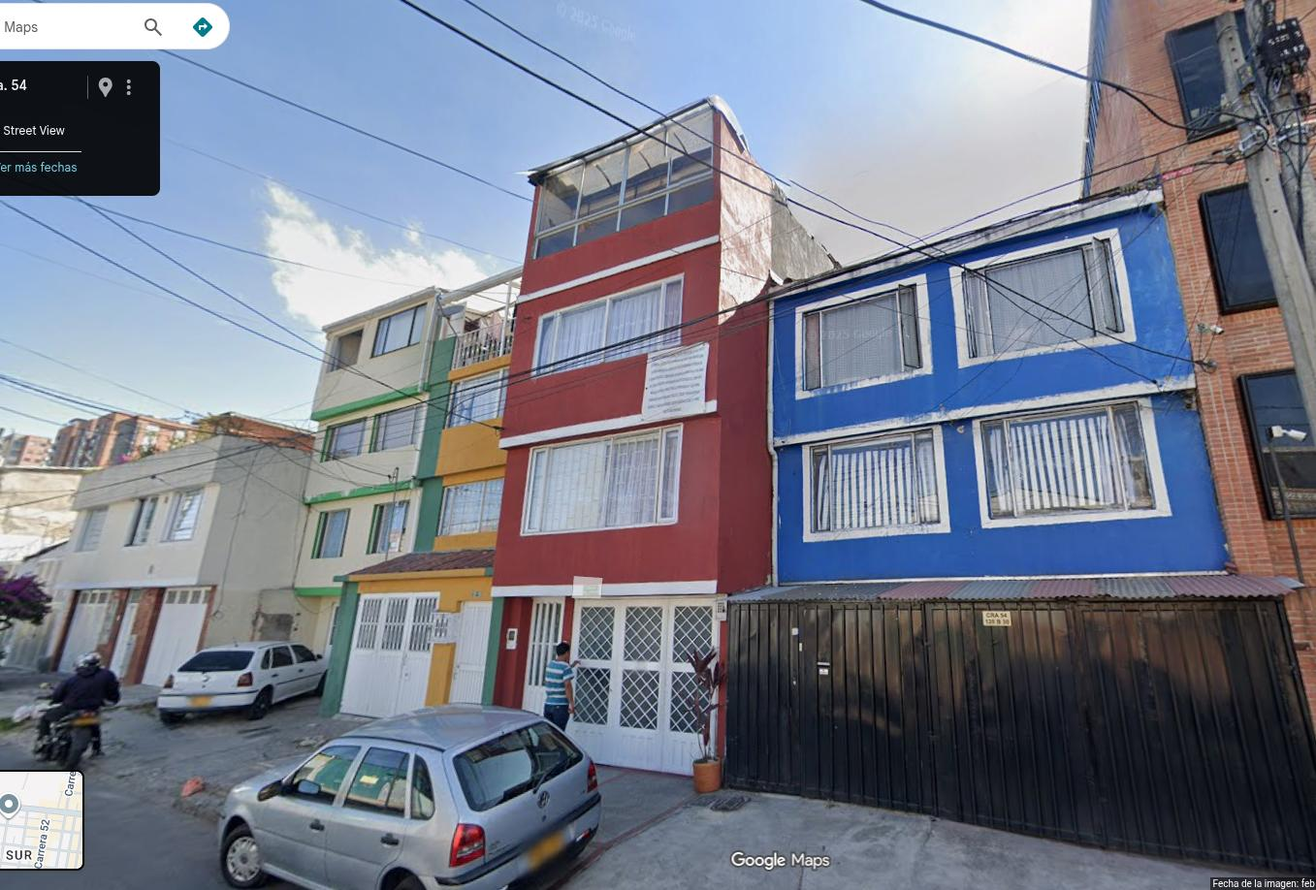casa: (725, 187, 1297, 864), (493, 97, 838, 771), (290, 267, 519, 653), (334, 268, 519, 716), (54, 434, 310, 684)
